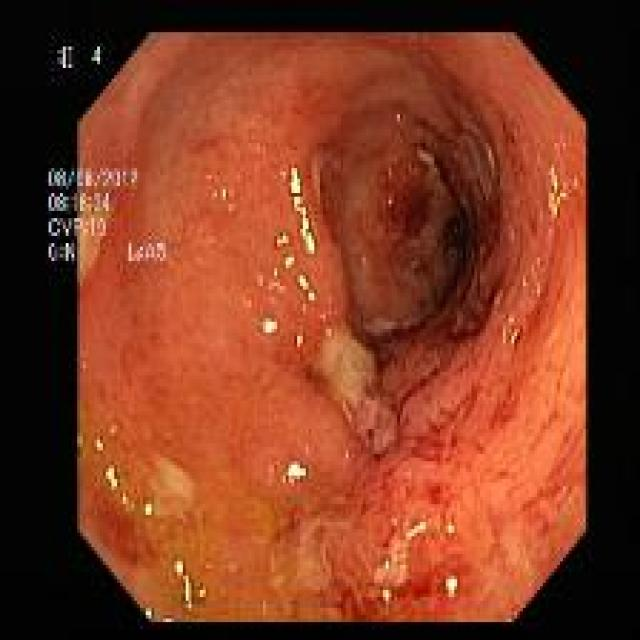ulcerative-colitis: (76, 33, 585, 623)
